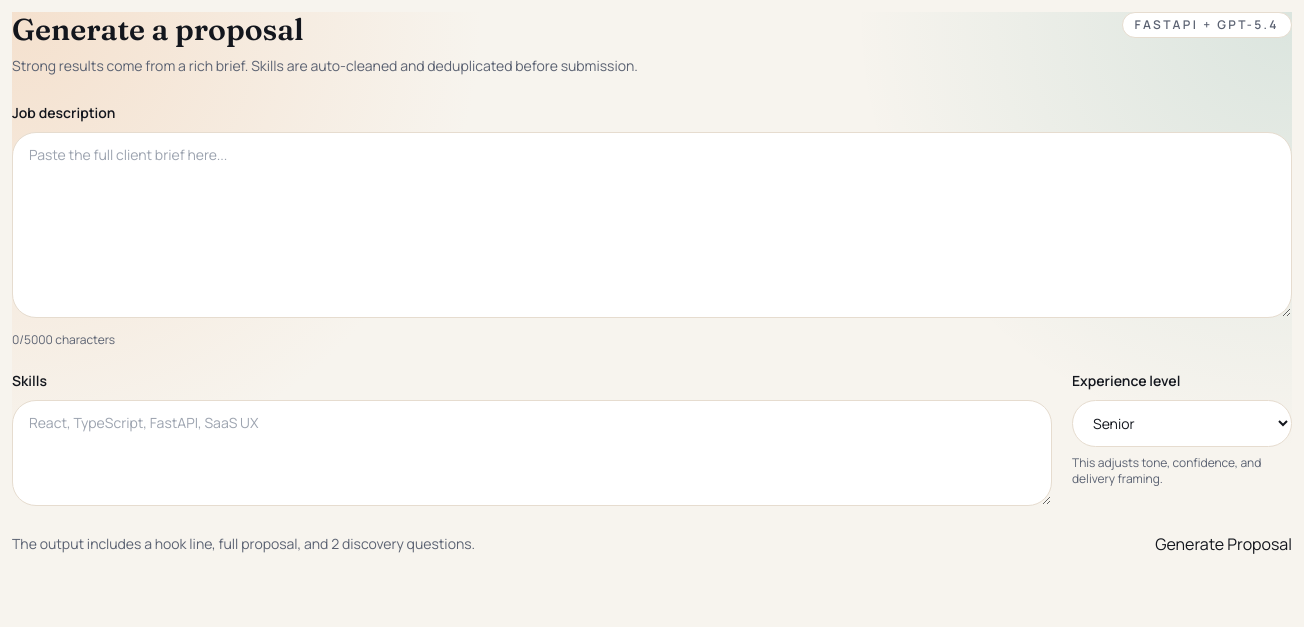
Scenario: ProposalForm › shows validation feedback for incomplete input
The width and height of the screenshot is (1304, 627).
Type "Too short" into the text box labelled "Job description".
click(652, 225); type("Too short")  # box left=12, top=132, right=1292, bottom=318
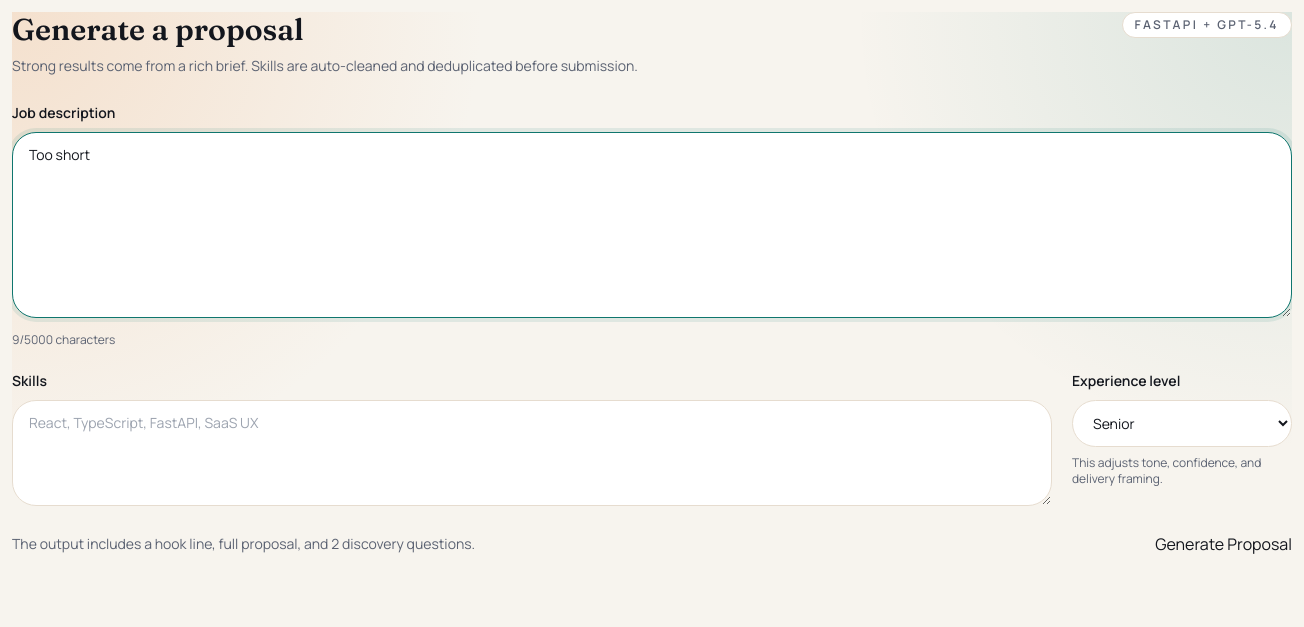
Click the button "Generate Proposal".
click(1224, 544)  # box left=1155, top=532, right=1292, bottom=556
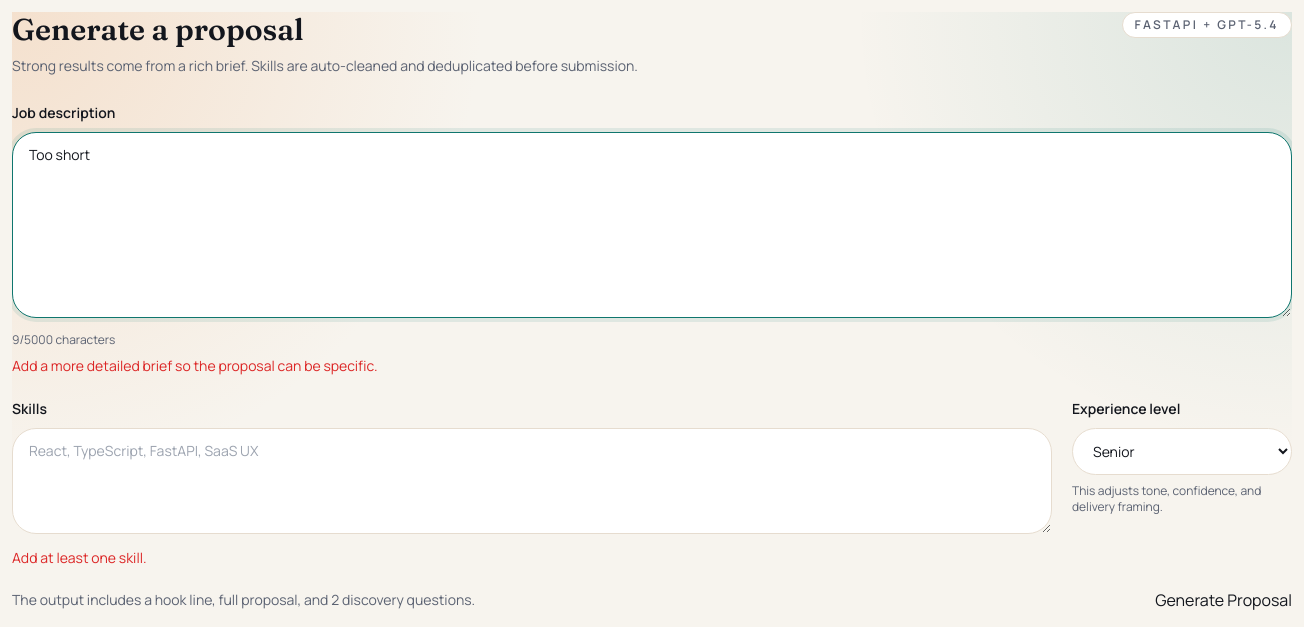
Check: the text "Add a more detailed brief so the proposal can be specific." is shown, box left=12, top=356, right=378, bottom=375
